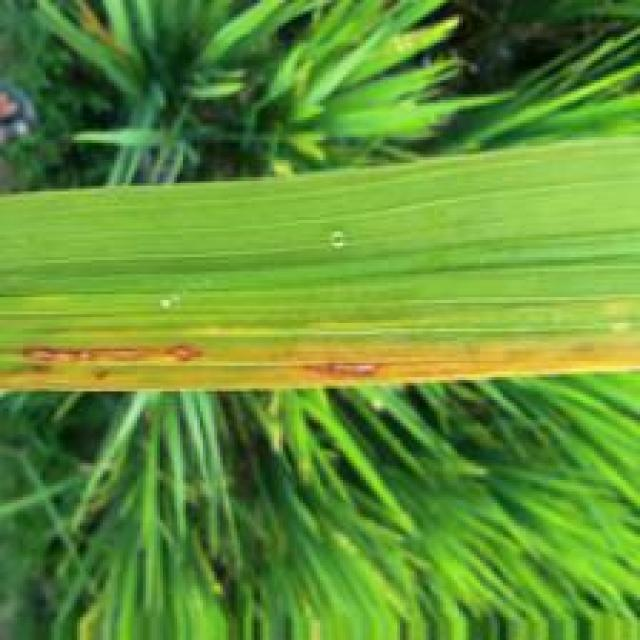Leaf_Blast: (14, 338, 205, 367), (290, 358, 385, 384)
